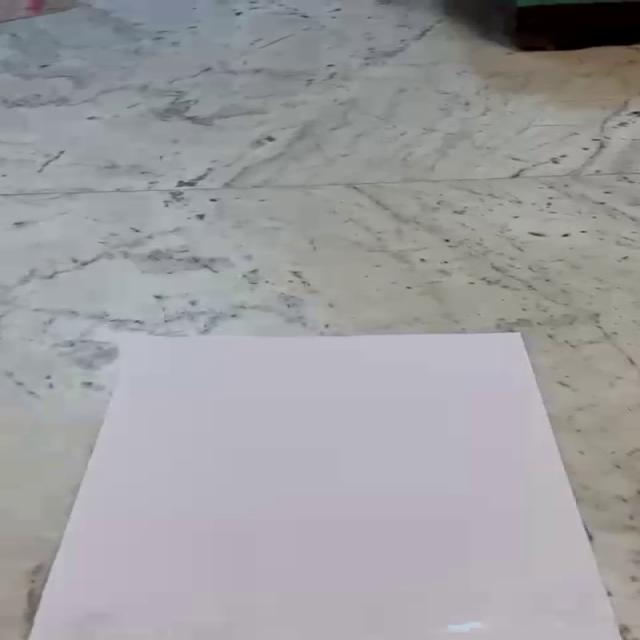road: (24, 333, 623, 640)
